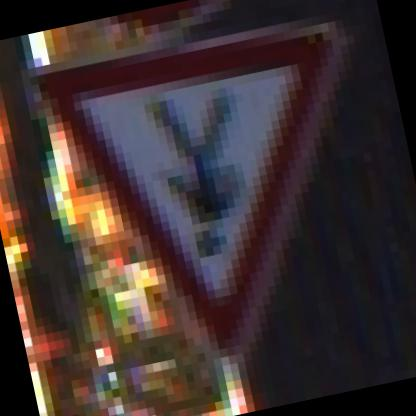crosswalk: (27, 0, 405, 393)
